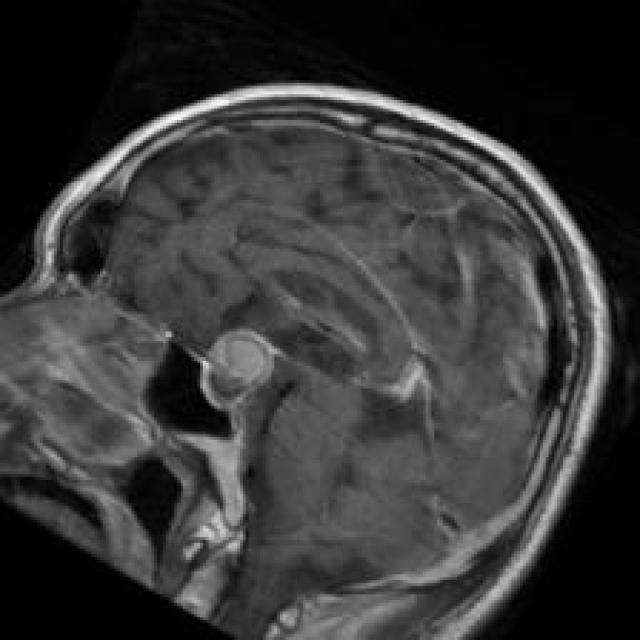pituitary_tumor: (185, 313, 286, 423)
